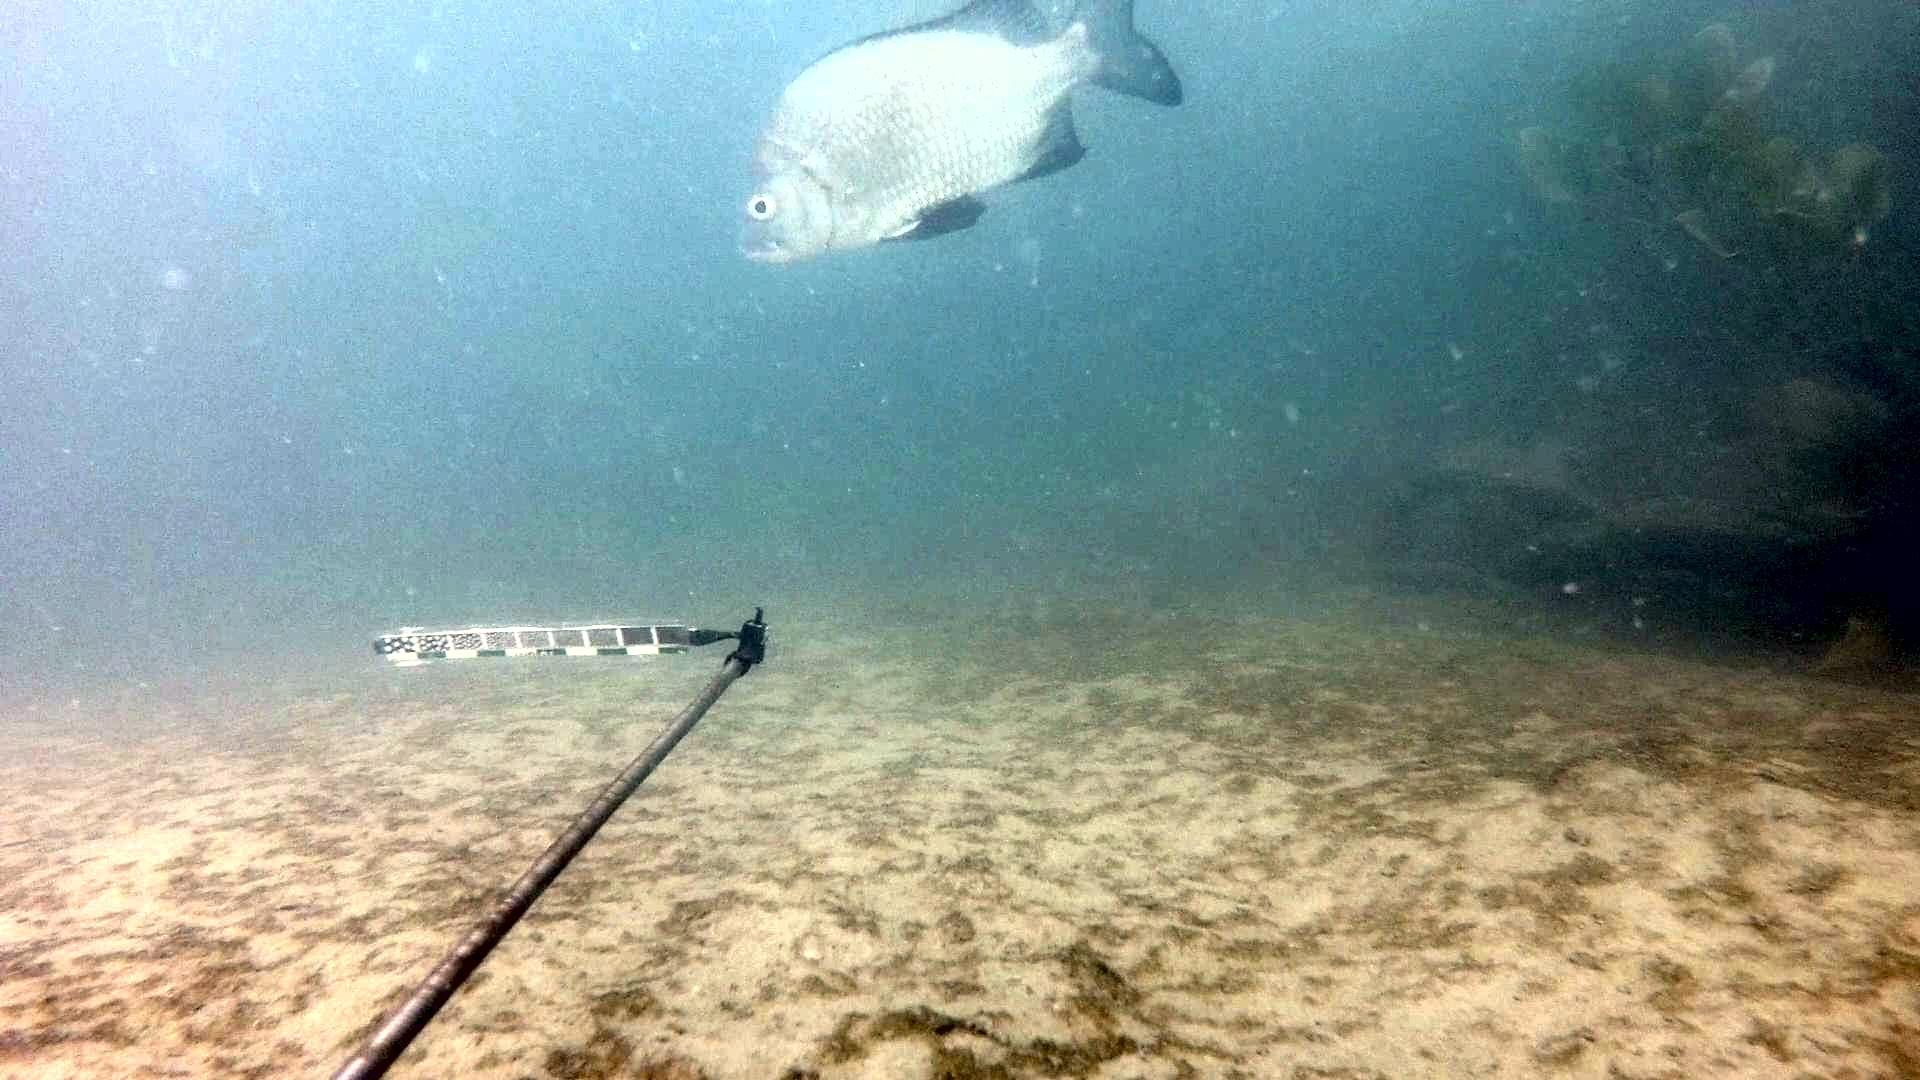acanthopagrus palmaris: (730, 0, 1193, 275)
